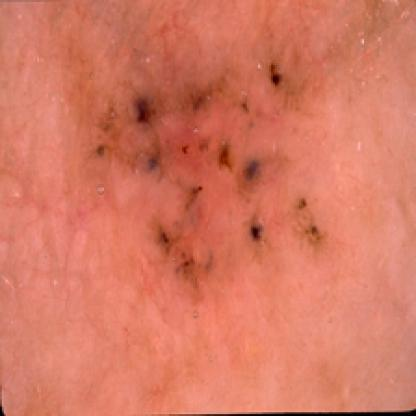malignant: (100, 56, 334, 267)
